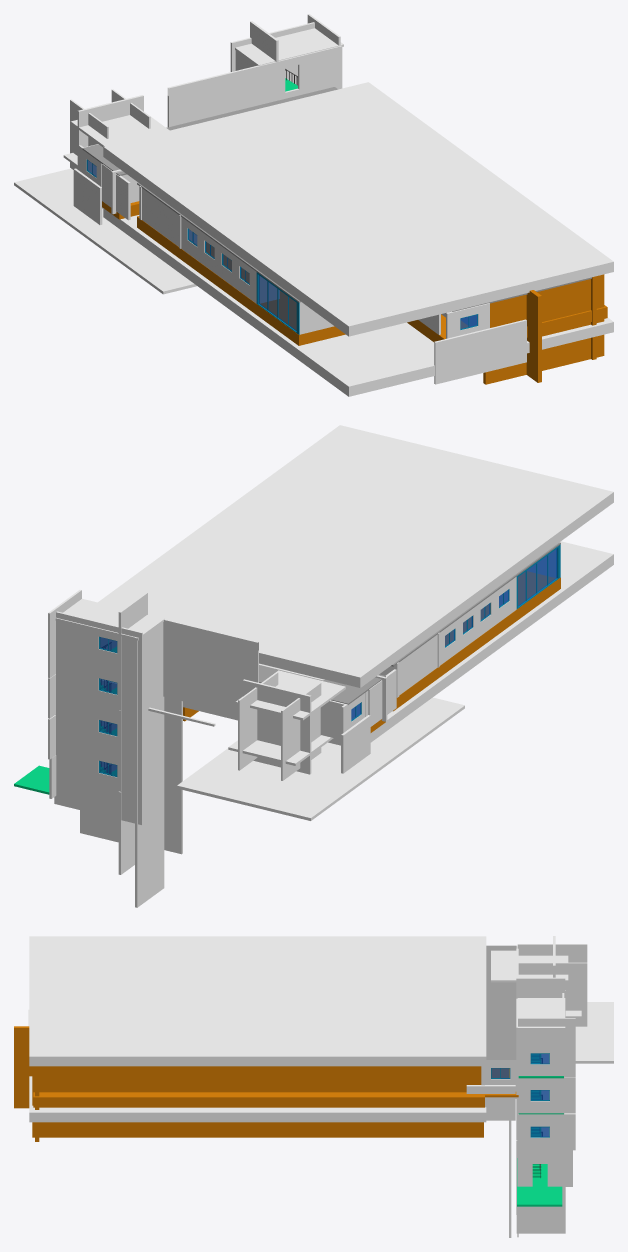
Rendered from Map4-OnlyThirdFloor.fbx.
3 views of the same model, one above another, from view 1: azimuth 30°, elevation 25°; view 2: azimuth 150°, elevation 25°; view 3: azimuth 270°, elevation 25° (orthographic). The views are drawn at different scales.
Visible parts, largest first — view 1: ground9, ground10, Wall24, pCube104, ground8, pCube100, Wall9, FireExitCeiling, ground3, ground2, pCube99, ground7 (+11 smaller); view 2: ground9, group13_Wall31, pCube104, pCube90, ground10, Wall24, Wall29, Wall9, pCube91, pCube93, pCube96, ground3 (+14 smaller); view 3: ground9, ground11, ground10, ground4, Wall25, ground, pCube104, Wall27, Wall26, pCube97, Wall30, pCube99 (+10 smaller).
Part boxes in pixels (<box>): ground9: <box>103,82,613,336</box>; ground10: <box>103,209,613,396</box>; Wall24: <box>167,45,342,127</box>; pCube104: <box>14,168,196,294</box>; ground8: <box>483,274,604,384</box>; pCube100: <box>434,319,526,384</box>; Wall9: <box>142,188,256,303</box>; FireExitCeiling: <box>235,28,343,65</box>; ground3: <box>137,216,287,314</box>; ground2: <box>257,297,345,345</box>; pCube99: <box>70,112,169,147</box>; ground7: <box>526,290,541,382</box>; ground9: <box>98,425,613,687</box>; group13_Wall31: <box>54,611,142,824</box>; pCube104: <box>177,697,464,820</box>; pCube90: <box>135,618,164,907</box>; ground10: <box>183,541,613,745</box>; Wall24: <box>82,598,258,682</box>; Wall29: <box>100,645,347,737</box>; Wall9: <box>399,577,516,695</box>; pCube91: <box>164,697,182,854</box>; pCube93: <box>242,679,311,774</box>; pCube96: <box>281,682,321,780</box>; ground3: <box>393,604,517,711</box>; ground9: <box>29,936,486,1066</box>; ground11: <box>32,1066,483,1137</box>; ground10: <box>29,1076,486,1122</box>; ground4: <box>33,1092,484,1107</box>; Wall25: <box>518,1018,575,1076</box>; ground: <box>486,945,516,1060</box>; pCube104: <box>575,1002,613,1063</box>; Wall27: <box>518,1113,575,1150</box>; Wall26: <box>518,1077,575,1113</box>; pCube97: <box>518,962,587,1026</box>; Wall30: <box>517,1150,572,1186</box>; pCube99: <box>491,950,568,982</box>.
Size of the model in its own units: 30 by 25.63 by 53.16.
